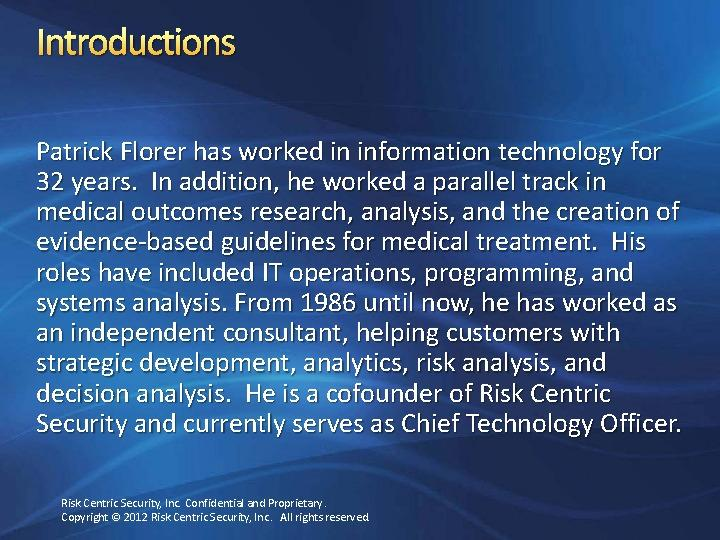paragraph: (21, 126, 713, 458)
subtitle: (50, 486, 385, 540)
title: (26, 21, 265, 77)
